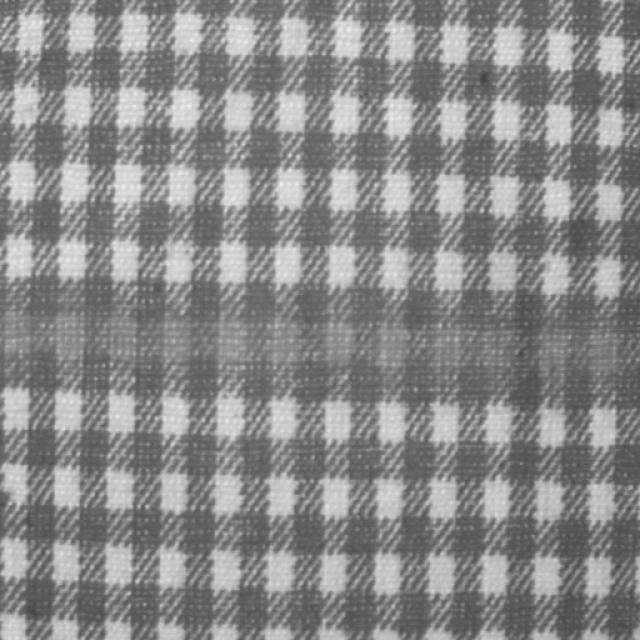Stain-Defect: (0, 311, 625, 376)
